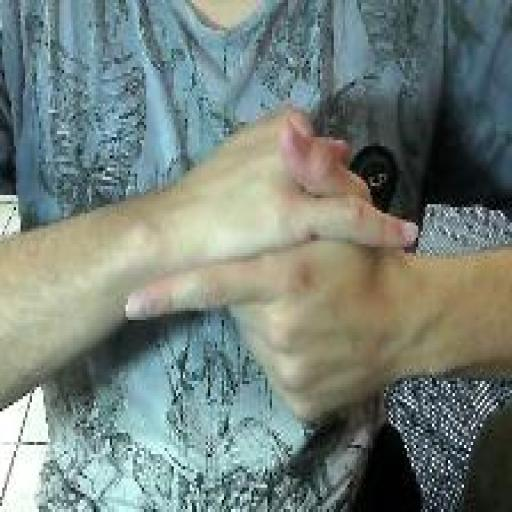U -hare-: (122, 98, 424, 432)
